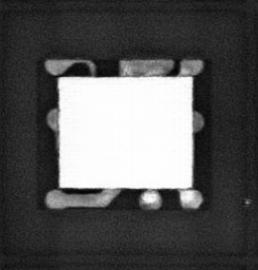DIE_INK: (244, 196, 252, 205)
